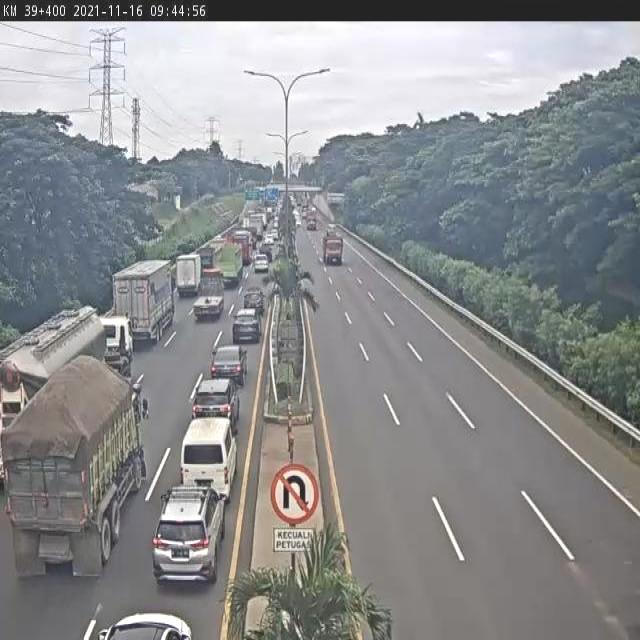Bus: (230, 230, 253, 267)
Car: (150, 484, 227, 588), (98, 611, 194, 640), (191, 376, 241, 430), (210, 344, 248, 388), (231, 307, 263, 343), (242, 287, 267, 314), (253, 254, 269, 274), (258, 241, 273, 262)
Truck: (0, 353, 149, 581), (0, 304, 138, 488), (111, 258, 177, 344), (193, 268, 224, 322), (212, 242, 243, 287), (175, 253, 202, 297), (321, 234, 344, 265), (196, 246, 216, 270), (248, 213, 264, 240), (305, 211, 317, 232)
Van: (180, 415, 238, 500)
